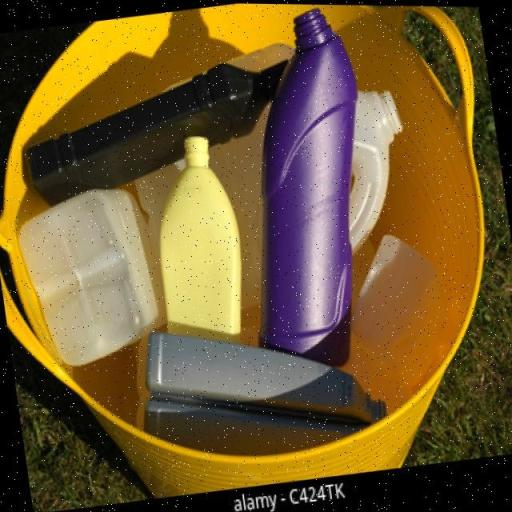plastic: (26, 61, 286, 206), (258, 6, 360, 368), (137, 331, 389, 457), (8, 179, 166, 378), (160, 134, 244, 340)
